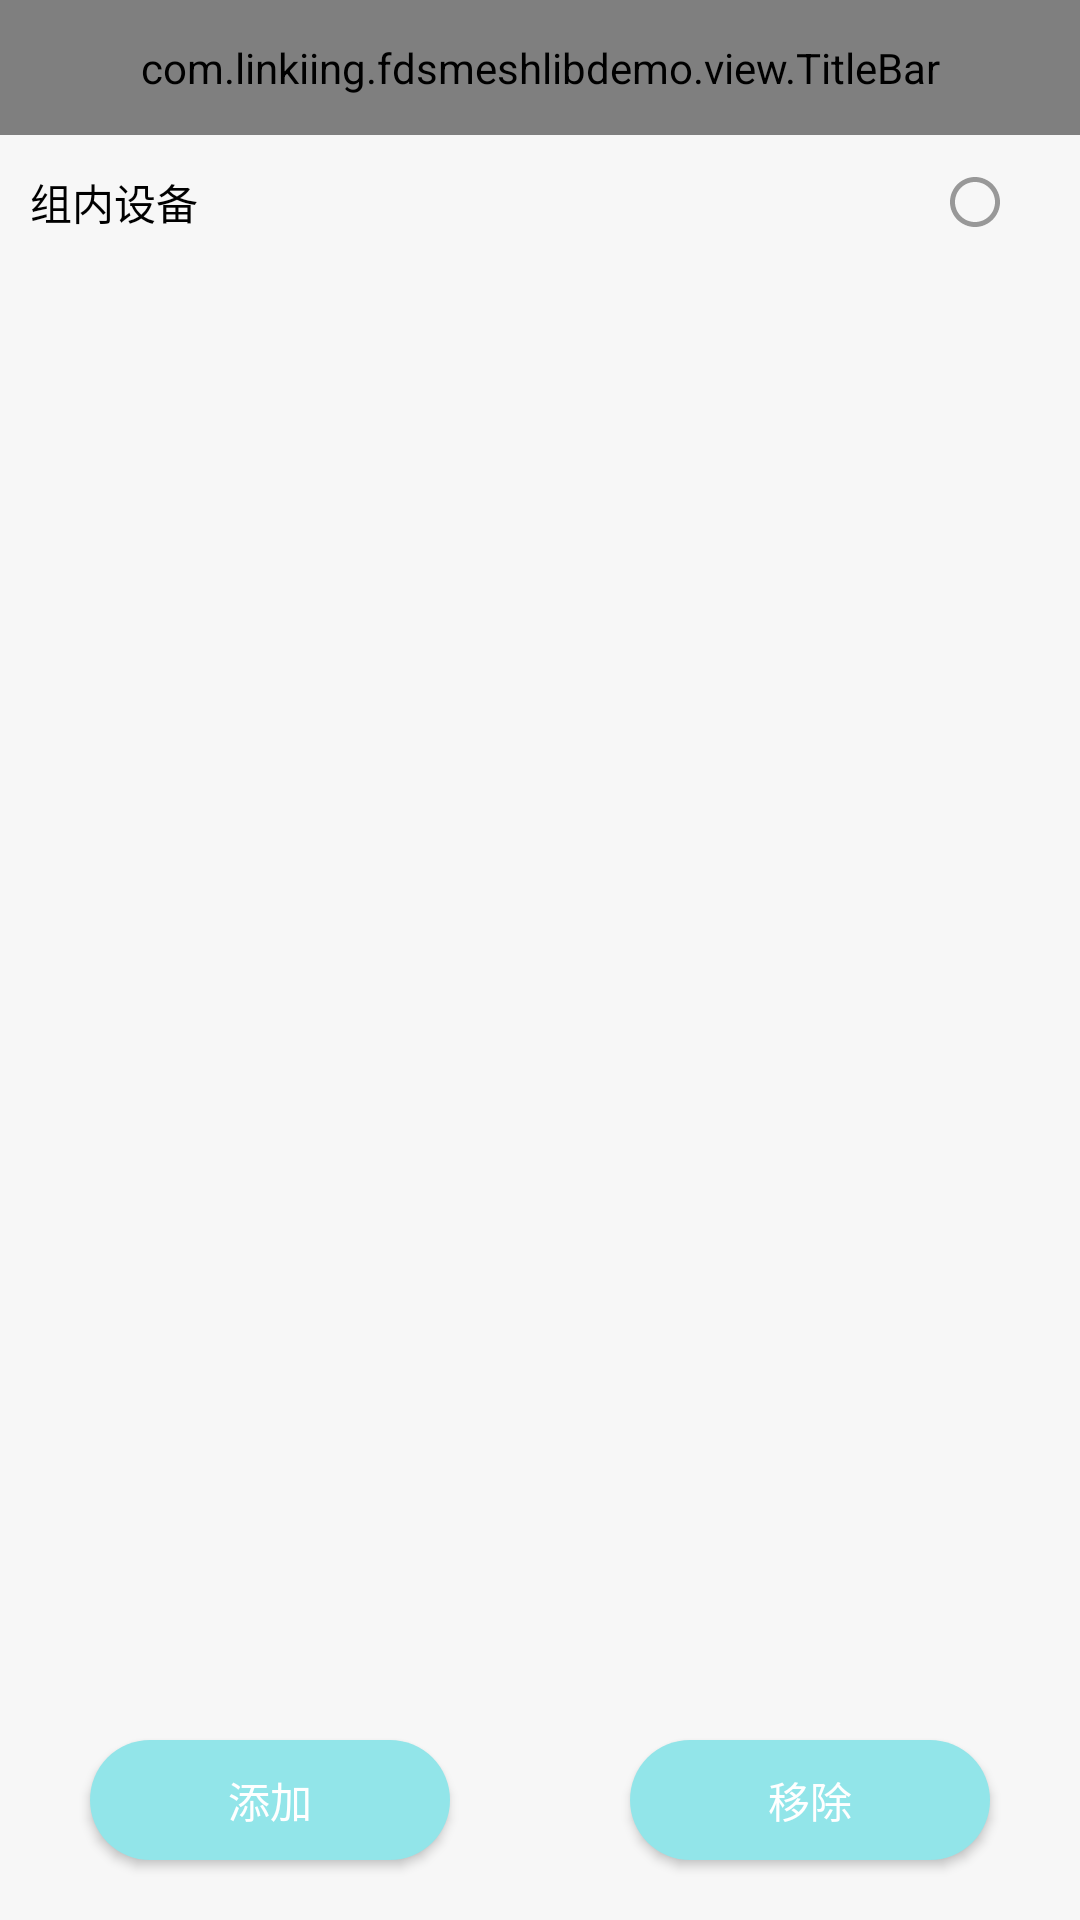

Screen size 1080*1920. Icon name, then its center in pixels as point (x, y):
checked off: point (975, 202)
